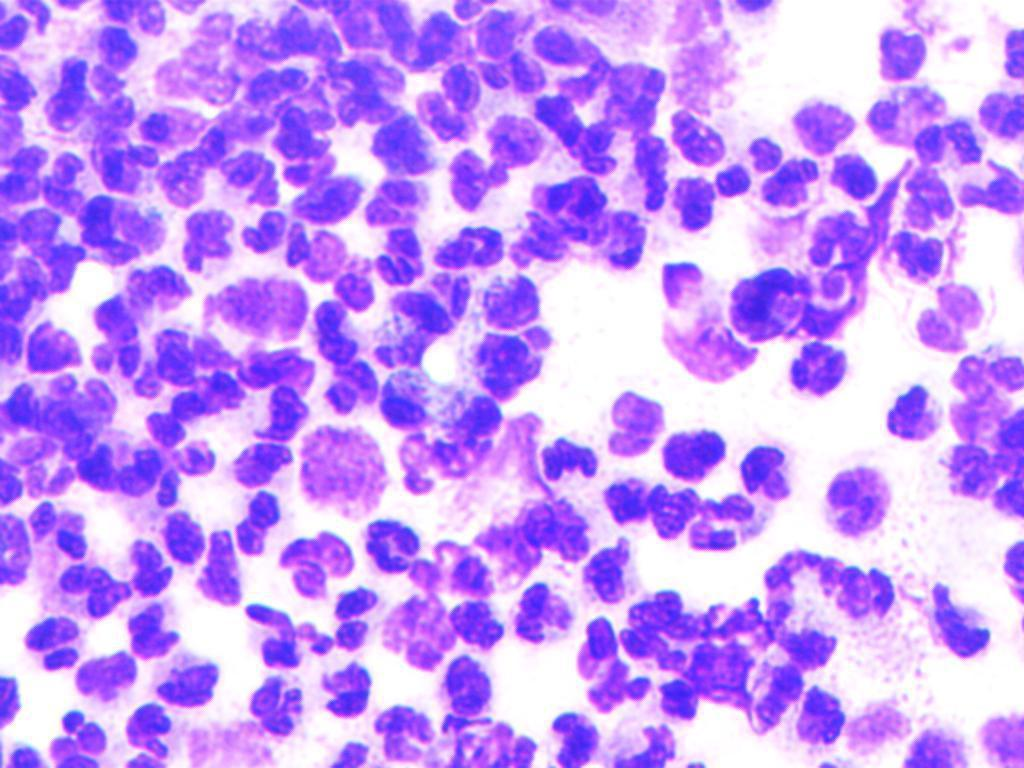neutrophil: (402, 396, 506, 497), (229, 587, 320, 677), (916, 574, 1005, 666), (733, 126, 815, 224), (72, 186, 169, 267), (819, 453, 898, 546), (803, 178, 876, 278), (578, 613, 639, 730), (768, 550, 827, 670), (75, 428, 174, 498), (37, 550, 136, 620), (428, 641, 507, 728), (853, 84, 955, 151), (4, 383, 128, 438), (0, 250, 54, 374), (465, 329, 553, 404), (533, 21, 605, 112), (229, 1, 318, 73), (374, 293, 462, 365), (0, 132, 83, 208), (659, 651, 747, 720), (219, 486, 290, 571), (892, 153, 961, 240), (728, 262, 798, 346), (506, 581, 580, 659), (275, 91, 347, 171), (82, 291, 147, 379), (403, 540, 501, 598), (178, 203, 249, 283), (621, 590, 688, 673), (23, 494, 97, 569), (145, 396, 213, 477), (408, 4, 484, 76), (242, 671, 318, 742), (8, 424, 77, 502), (949, 349, 1024, 420), (615, 128, 674, 218), (41, 47, 93, 148), (306, 289, 367, 373), (743, 654, 804, 738), (889, 220, 961, 291), (939, 439, 1021, 501), (947, 154, 1024, 220), (208, 140, 286, 205), (532, 707, 615, 768), (539, 167, 610, 238), (368, 699, 440, 768), (918, 284, 991, 352), (24, 223, 90, 298), (579, 534, 647, 606), (607, 380, 666, 461), (128, 100, 216, 154), (329, 579, 388, 659), (416, 84, 485, 152), (149, 647, 224, 708), (383, 366, 451, 433), (609, 60, 673, 131), (251, 374, 307, 455), (643, 474, 698, 556), (743, 427, 794, 515), (114, 534, 183, 599), (828, 559, 893, 627), (541, 427, 606, 494), (438, 217, 513, 275), (289, 171, 361, 231), (371, 160, 427, 237), (671, 97, 724, 178), (368, 220, 434, 285), (12, 619, 94, 671), (476, 273, 551, 329), (315, 354, 376, 421), (355, 521, 430, 575), (698, 494, 760, 559), (43, 701, 110, 761), (972, 77, 1024, 154), (446, 583, 502, 653), (797, 683, 859, 745), (873, 379, 936, 440), (98, 1, 173, 51), (228, 200, 292, 258), (667, 426, 731, 482), (127, 599, 185, 660), (322, 656, 371, 727), (791, 337, 852, 394), (872, 23, 931, 79), (123, 699, 174, 761), (486, 116, 544, 170), (456, 158, 511, 213), (23, 328, 89, 372), (674, 192, 719, 240), (0, 61, 42, 112)
